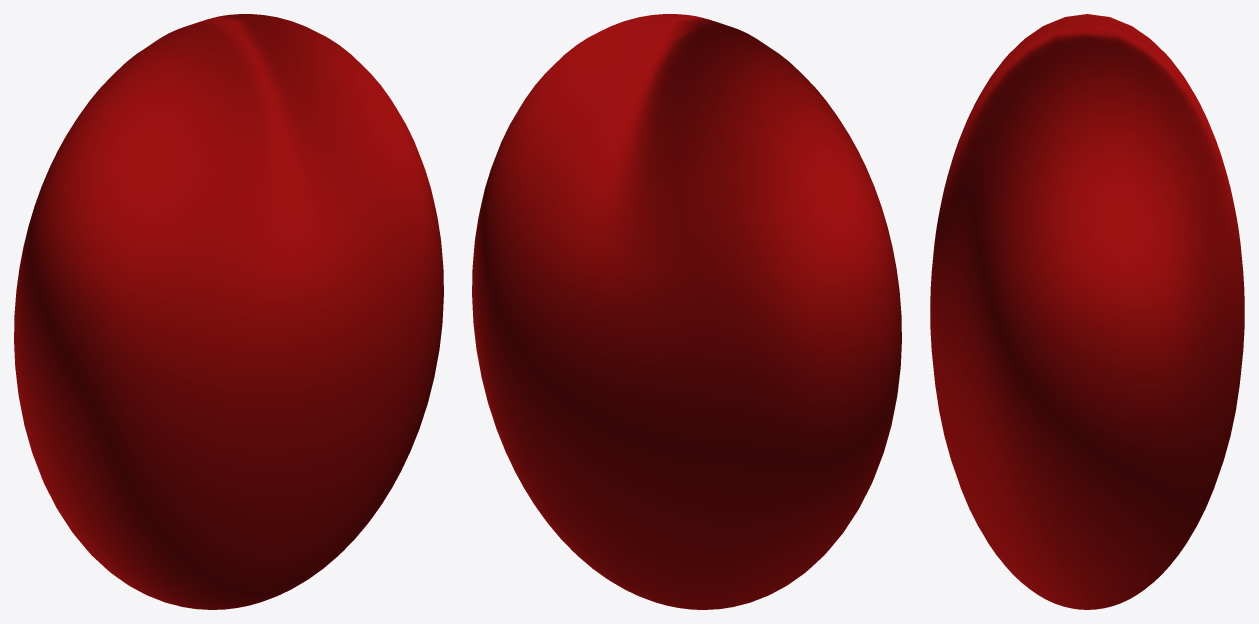
File: animTest.glb
3 renders of one model, left to right at view 1: azimuth 30°, elevation 25°; view 2: azimuth 150°, elevation 25°; view 3: azimuth 270°, elevation 25°, orthographic.
Parts seen in each view (by area): view 1: BASE HEART_Material #41_0; view 2: BASE HEART_Material #41_0; view 3: BASE HEART_Material #41_0.
Boxes of the visible parts, box(x1,y1,x2,y2) form: BASE HEART_Material #41_0: box(14, 14, 443, 609); BASE HEART_Material #41_0: box(472, 14, 901, 609); BASE HEART_Material #41_0: box(930, 14, 1244, 609).
Size of the model in its own units: 3.47 by 4.8 by 2.42.
